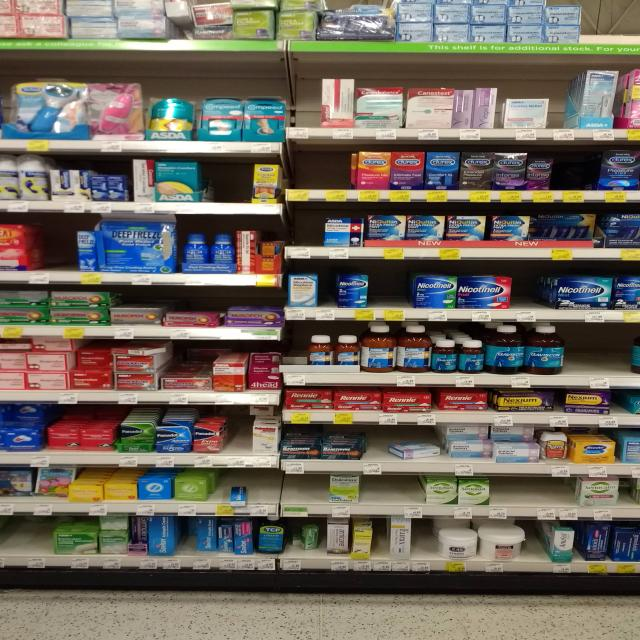void: (601, 324, 640, 386), (555, 143, 596, 201), (207, 155, 247, 214), (46, 213, 78, 286), (372, 260, 409, 320), (516, 260, 550, 320), (534, 476, 576, 520), (553, 68, 579, 139), (570, 323, 598, 387), (285, 468, 323, 514), (289, 144, 320, 200), (294, 200, 322, 260), (610, 0, 640, 55), (324, 144, 352, 202), (494, 475, 530, 518), (250, 468, 282, 515), (293, 76, 317, 138), (0, 514, 28, 566), (388, 474, 422, 516), (414, 517, 437, 576), (31, 516, 55, 572), (585, 0, 609, 55), (284, 330, 306, 387), (529, 519, 549, 573), (364, 474, 386, 520), (367, 428, 388, 476), (229, 410, 246, 466)
